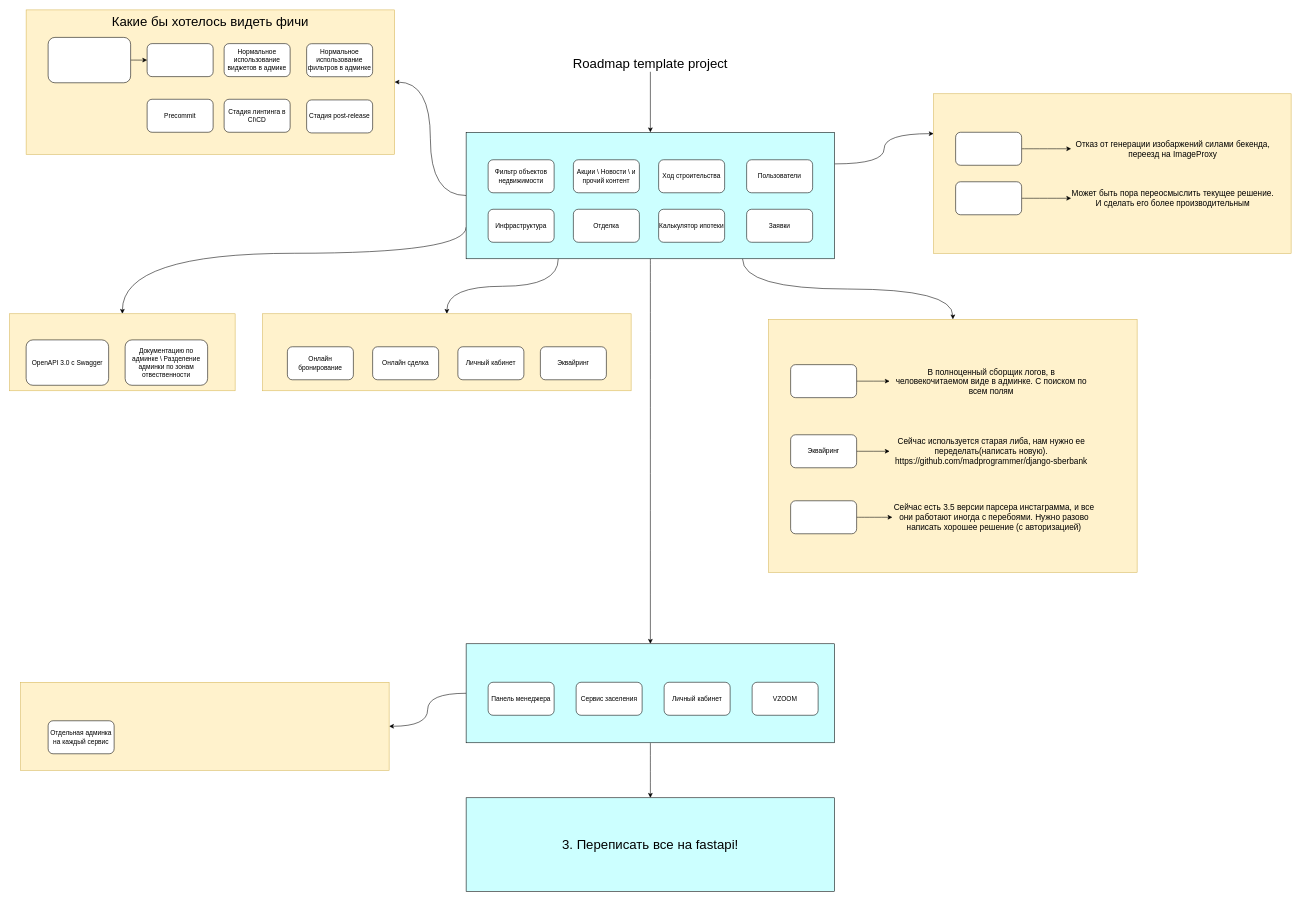
Image size: 1301x901. Some labels were removed from this diagram. The shapes that lost their labels are listed below. From the top down, each one's box as (x1, y1, x2, y2) in pixels, then its label:
(48, 37, 131, 83): Документацию по выгрузке для клиента. В формате OpenAPI + текстовое описание
(147, 43, 213, 77): Детальное логирование выгрузки
(955, 132, 1022, 165): Pillow \ ImageKit
(933, 93, 1291, 253): Переделка существующих внутренних решений под нас
(466, 132, 835, 259): 1. CORE
(955, 181, 1022, 215): Specs\Facets
(9, 313, 235, 391): Документация
(262, 313, 631, 391): Бизнес процессы
(790, 364, 857, 398): drf-tracking
(768, 319, 1137, 572): Переделка существующих внешних решений под нас
(790, 500, 857, 534): Парсер инстаграмма
(466, 643, 835, 743): 2. Сервисы
(20, 682, 389, 770): Административная панель
